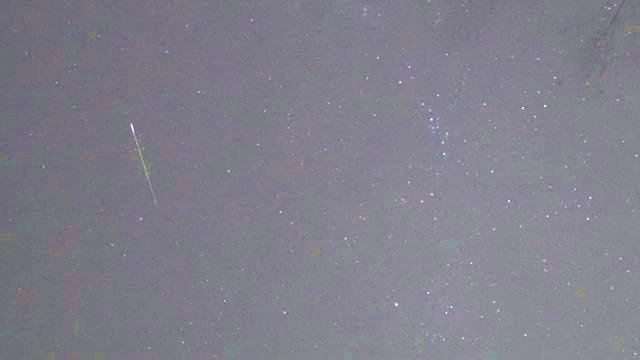meteorite: (120, 115, 159, 217)
